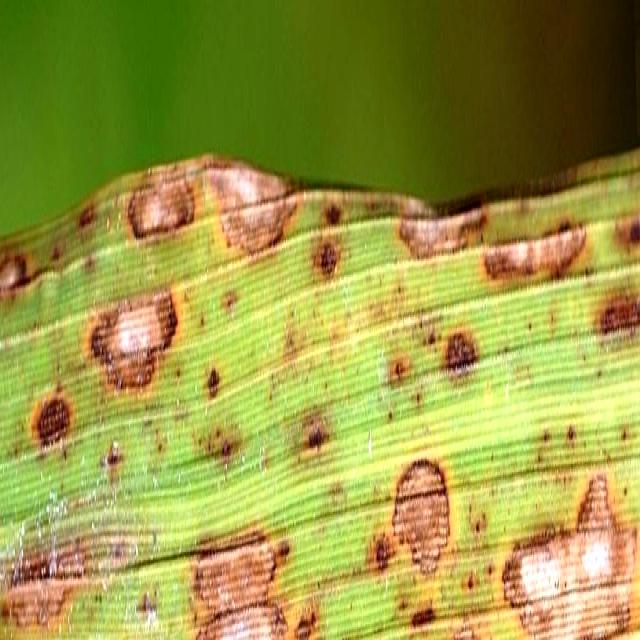LEAF BLAST: (501, 465, 638, 640), (193, 531, 286, 640), (90, 290, 177, 387), (215, 165, 294, 254), (394, 458, 449, 574), (0, 554, 83, 629), (485, 224, 585, 278), (400, 205, 485, 258), (128, 170, 194, 238), (37, 392, 70, 446), (599, 294, 640, 334), (0, 250, 28, 298), (446, 331, 477, 374), (296, 608, 315, 640), (273, 537, 291, 570), (470, 638, 475, 640)
